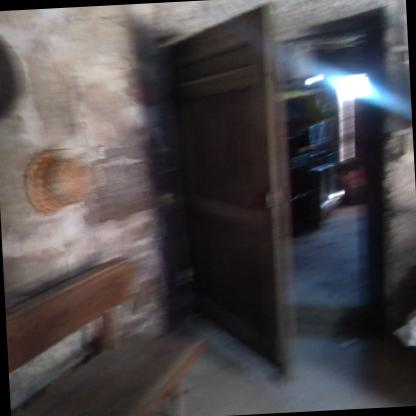open: (151, 0, 416, 399)
